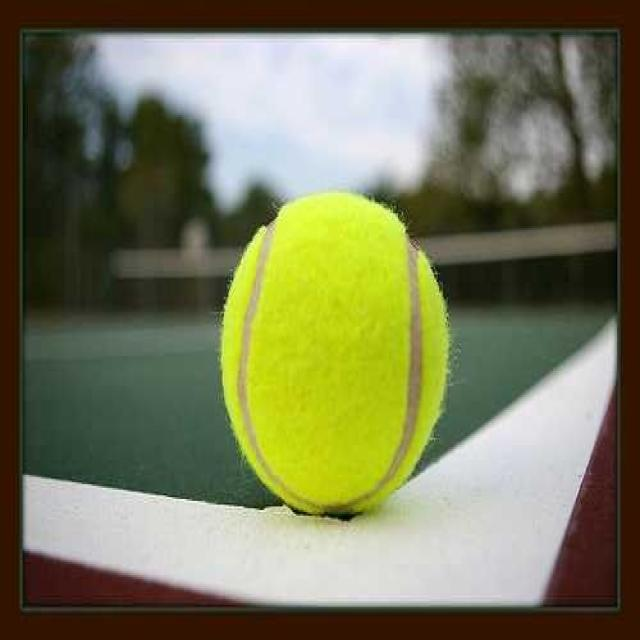Tennis_Ball: (230, 187, 440, 506)
